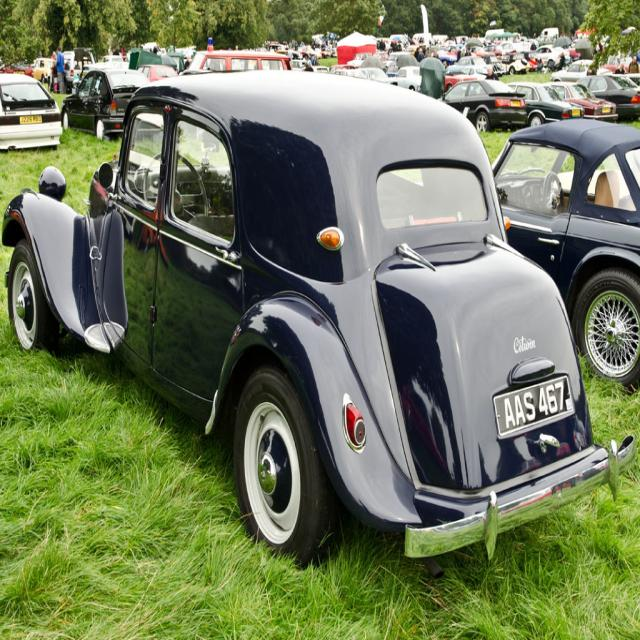car: (20, 82, 616, 563)
